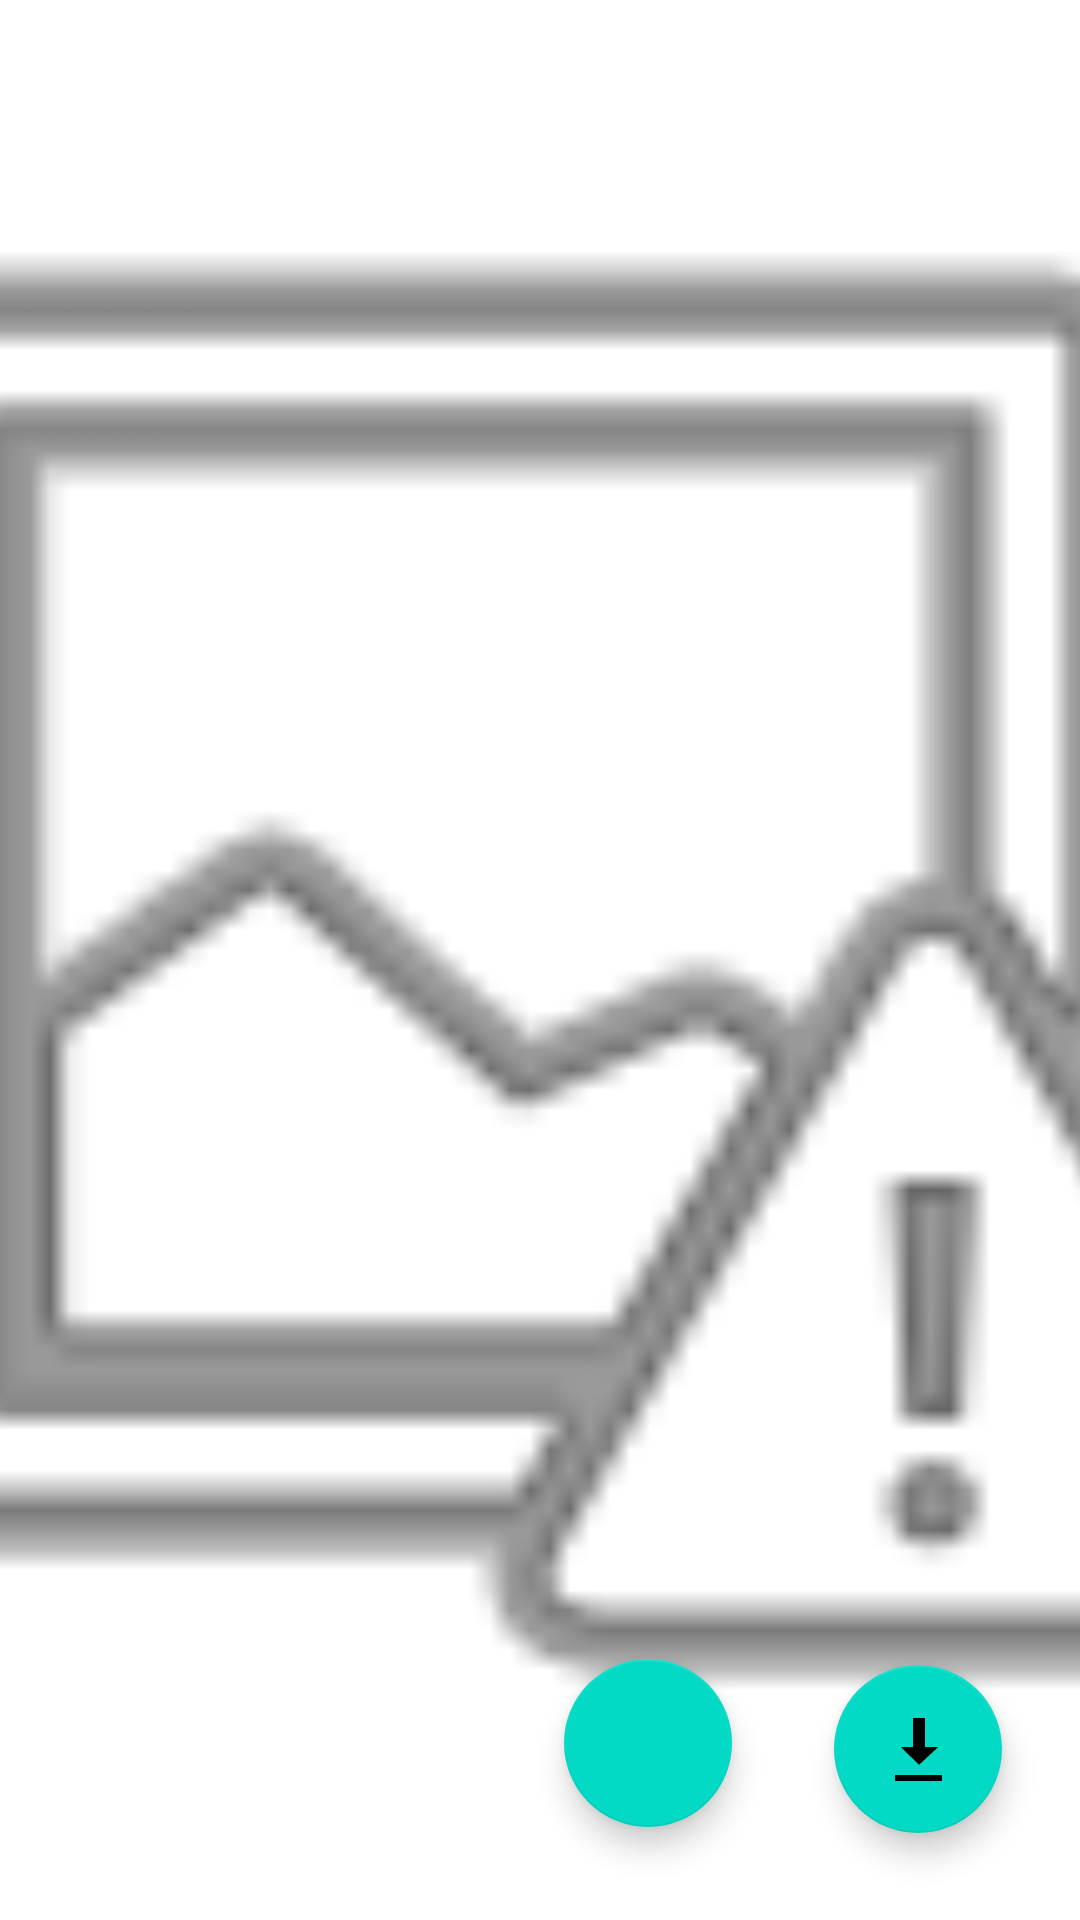

Icon click points for this 1080px×1920px phone screenshot, format (x=x, y=y):
download: (x=918, y=1749)
